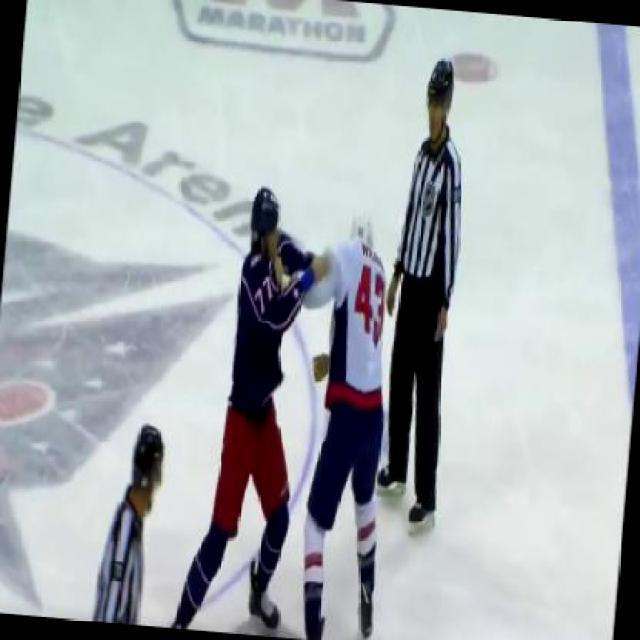fight: (205, 184, 406, 638)
non-fight: (367, 44, 481, 544)
